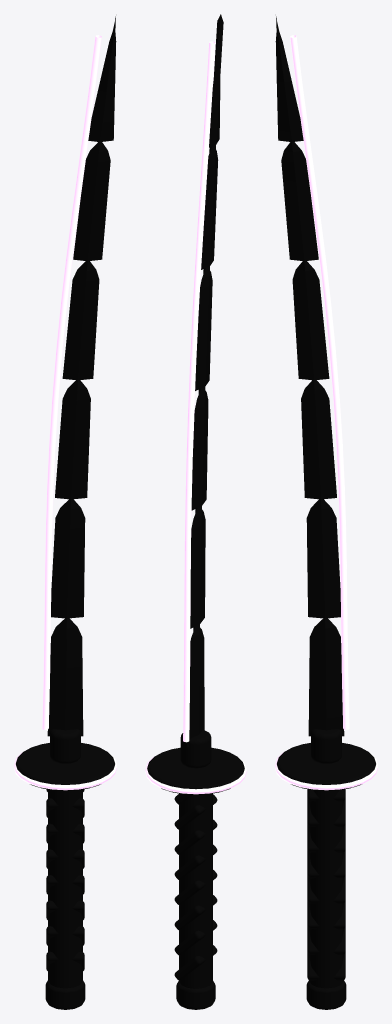
The model's file is katana_plasma.glb.
The picture shows the model from 3 angles, left to right: view 1: azimuth 90°, elevation 25°; view 2: azimuth 150°, elevation 25°; view 3: azimuth 270°, elevation 25°; orthographic projection.
Visible parts, largest first — view 1: katana_plasma; view 2: katana_plasma; view 3: katana_plasma.
Boxes of the visible parts, x1,y1,x2,y2 form: katana_plasma: (14,16,116,1009); katana_plasma: (145,14,246,1009); katana_plasma: (275,16,377,1009).
Bounding box in the file's own units: 0.124 × 1.31 × 0.124.
2 materials, 1 textured.
